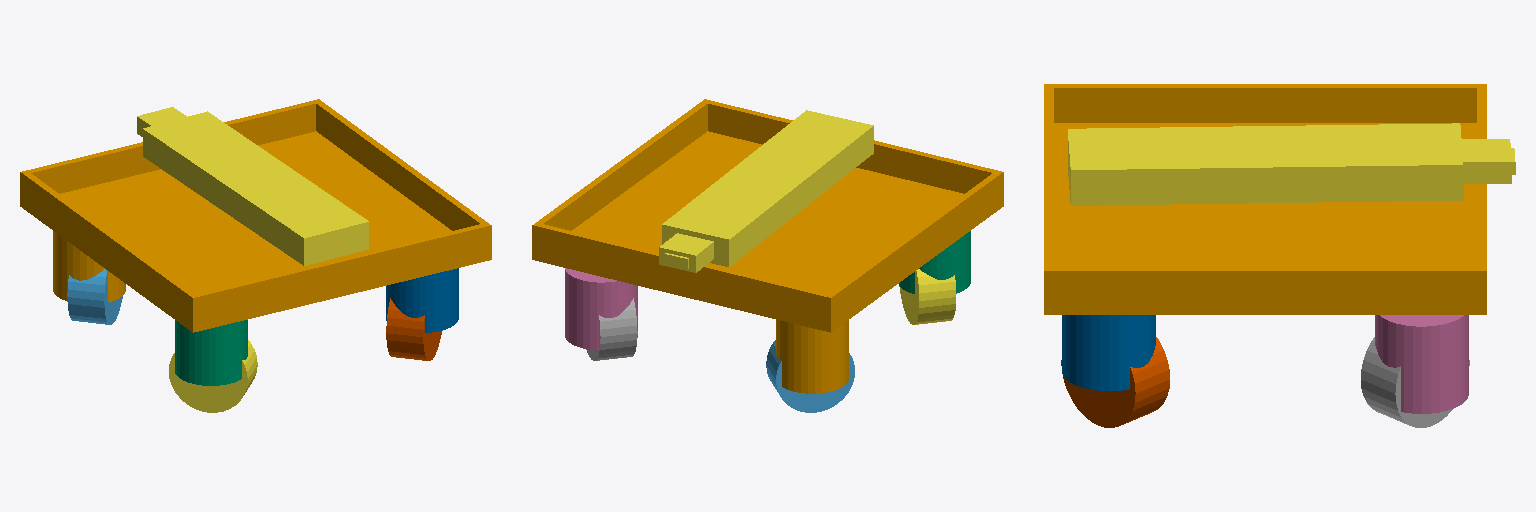
The robot description file, URDF, robot "sentry_lift_test":
<?xml version='1.0' encoding='utf-8'?>
<robot name="sentry_lift_test">
  <link name="chassis">
    <visual>
      <origin xyz="-.22 0 -.10585" rpy="0 0 0" />
      <geometry>
        <box size=".01 .45 .04" />
      </geometry>
    </visual>
    <visual>
      <origin xyz=".22 0 -.10585" rpy="0 0 0" />
      <geometry>
        <box size=".01 .45 .04" />
      </geometry>
    </visual>
    <visual>
      <origin xyz="0 -.22 -.10585" rpy="0 0 0" />
      <geometry>
        <box size=".43 .01 .04" />
      </geometry>
    </visual>
    <visual>
      <origin xyz="0 .22 -.10585" rpy="0 0 0" />
      <geometry>
        <box size=".43 .01 .04" />
      </geometry>
    </visual>
    <visual>
      <origin xyz="0 0 -.13085" rpy="0 0 0" />
      <geometry>
        <box size=".45 .45 .01" />
      </geometry>
    </visual>
  </link>
  <link name="base_footprint" />
  <link name="front_left_steer_link">
    <visual>
      <origin xyz="0 0 -0.027" rpy="0 0 0" />
      <geometry>
        <cylinder radius="0.048" length="0.098" />
      </geometry>
    </visual>
  </link>
  <link name="front_left_wheel_link">
    <visual>
      <origin xyz="-0.019453 0.00012233 -7.8814e-05" rpy="0 1.5707963 0" />
      <geometry>
        <cylinder radius="0.0535" length="0.05" />
      </geometry>
    </visual>
  </link>
  <link name="front_right_steer_link">
    <visual>
      <origin xyz="0 0 -0.025" rpy="0 0 0" />
      <geometry>
        <cylinder radius="0.048" length="0.098" />
      </geometry>
    </visual>
  </link>
  <link name="front_right_wheel_link">
    <visual>
      <origin xyz="-0.019538 0.00012734 -8.2044e-05" rpy="0 1.5707963 0" />
      <geometry>
        <cylinder radius="0.0535" length="0.05" />
      </geometry>
    </visual>
  </link>
  <link name="rear_right_steer_link">
    <visual>
      <origin xyz="0 0 -0.039" rpy="0 0 0" />
      <geometry>
        <cylinder radius="0.048" length="0.098" />
      </geometry>
    </visual>
  </link>
  <link name="rear_right_wheel_link">
    <visual>
      <origin xyz="-0.019684 0.00013642 -8.7894e-05" rpy="0 1.5707963 0" />
      <geometry>
        <cylinder radius="0.0535" length="0.05" />
      </geometry>
    </visual>
  </link>
  <link name="rear_left_steer_link">
    <visual>
      <origin xyz="0 0 -0.027" rpy="0 0 0" />
      <geometry>
        <cylinder radius="0.048" length="0.098" />
      </geometry>
    </visual>
  </link>
  <link name="rear_left_wheel_link">
    <visual>
      <origin xyz="-0.019684 -8.7894e-05 -0.00013642" rpy="0 1.5707963 0" />
      <geometry>
        <cylinder radius="0.0535" length="0.05" />
      </geometry>
    </visual>
  </link>
  <link name="lift_carriage" />
  <link name="base_link">
    <visual>
      <origin xyz="0 0 0" rpy="0 0 0" />
      <geometry>
        <box size=".40 .10 .04" />
      </geometry>
    </visual>
    <visual>
      <origin xyz=".22 0 0" rpy="0 0 0" />
      <geometry>
        <box size=".06 .055 .025" />
      </geometry>
    </visual>
    <visual>
      <origin xyz=".252 0 0" rpy="0 0 0" />
      <geometry>
        <box size=".004 .035 .014" />
      </geometry>
    </visual>
  </link>
  <link name="livox_frame">
    <visual>
      <origin xyz="0 0 0" rpy="0 0 3.141592653589793" />
      <geometry>
        <mesh filename="file:///home/dengjiaxi/simulation_seu/navigatiosim2/src/pb2025_robot_description/resource/models/mid360/meshes/mid360.dae" scale="1 1 1" />
      </geometry>
    </visual>
  </link>
  <joint name="chassis_to_base_footprint" type="fixed">
    <parent link="chassis" />
    <child link="base_footprint" />
    <origin xyz="0 0 -0.28585" rpy="0 0 0" />
  </joint>
  <joint name="front_left_steer_joint" type="continuous">
    <parent link="chassis" />
    <child link="front_left_steer_link" />
    <origin xyz="-0.159 -0.159 -0.156" rpy="0 0 2.3562" />
    <axis xyz="0 0 1" />
  </joint>
  <joint name="front_left_wheel_joint" type="continuous">
    <parent link="front_left_steer_link" />
    <child link="front_left_wheel_link" />
    <origin xyz="0 -0.029 -0.07635" rpy="0 0 -1.5708" />
    <axis xyz="-1 0 0" />
  </joint>
  <joint name="front_right_steer_joint" type="continuous">
    <parent link="chassis" />
    <child link="front_right_steer_link" />
    <origin xyz="0.159 -0.159 -0.156" rpy="0 0 -2.3562" />
    <axis xyz="0 0 1" />
  </joint>
  <joint name="front_right_wheel_joint" type="continuous">
    <parent link="front_right_steer_link" />
    <child link="front_right_wheel_link" />
    <origin xyz="0 -0.029 -0.07635" rpy="0 0 -1.5708" />
    <axis xyz="-1 0 0" />
  </joint>
  <joint name="rear_right_steer_joint" type="continuous">
    <parent link="chassis" />
    <child link="rear_right_steer_link" />
    <origin xyz="0.159 0.159 -0.16735" rpy="0 0 -0.7854" />
    <axis xyz="0 0 1" />
  </joint>
  <joint name="rear_right_wheel_joint" type="continuous">
    <parent link="rear_right_steer_link" />
    <child link="rear_right_wheel_link" />
    <origin xyz="0 -0.029 -0.065" rpy="0 0 -1.5707963" />
    <axis xyz="-1 0 0" />
  </joint>
  <joint name="rear_left_steer_joint" type="continuous">
    <parent link="chassis" />
    <child link="rear_left_steer_link" />
    <origin xyz="-0.159 0.159 -0.16735" rpy="0 0 0.7853982" />
    <axis xyz="0 0 1" />
  </joint>
  <joint name="rear_left_wheel_joint" type="continuous">
    <parent link="rear_left_steer_link" />
    <child link="rear_left_wheel_link" />
    <origin xyz="0 -0.029 -0.065" rpy="1.5707963 0 -1.5707963" />
    <axis xyz="-1 0 0" />
  </joint>
  <joint name="lift_joint" type="prismatic">
    <parent link="chassis" />
    <child link="lift_carriage" />
    <origin xyz="0 0 -0.08835" rpy="0 0 0" />
    <axis xyz="0 0 1" />
    <limit lower="0" upper=".3" effort="300" velocity=".8" />
  </joint>
  <joint name="gimbal_yaw_joint" type="continuous">
    <parent link="lift_carriage" />
    <child link="base_link" />
    <origin xyz="0 0 .0165" rpy="0 0 1.6032" />
    <axis xyz="0 0 1" />
  </joint>
  <joint name="radar_mount" type="fixed">
    <parent link="base_link" />
    <child link="livox_frame" />
    <origin xyz="0 0 0" rpy="0 0 0" />
  </joint>
</robot>

--- Render facts (derived) ---
The picture shows the robot from 3 angles, left to right: view 1: azimuth 30°, elevation 25°; view 2: azimuth 150°, elevation 25°; view 3: azimuth 270°, elevation 25°; orthographic projection.
Model sentry_lift_test with 13 links and 12 joints (9 continuous, 1 prismatic, 2 fixed), rooted at chassis, posed all joints at 0.
Visible links, largest first — view 1: chassis, base_link, front_left_steer_link, front_right_steer_link, front_left_wheel_link, front_right_wheel_link, rear_left_steer_link, rear_left_wheel_link; view 2: chassis, base_link, rear_left_steer_link, rear_right_steer_link, front_left_wheel_link, front_left_steer_link, rear_right_wheel_link, rear_left_wheel_link; view 3: chassis, base_link, rear_right_steer_link, front_right_steer_link, front_right_wheel_link, rear_right_wheel_link.
Boxes of the visible links, box(x1,y1,x2,y2) form: chassis: box(20, 99, 491, 332); base_link: box(137, 107, 368, 265); front_left_steer_link: box(175, 320, 247, 385); front_right_steer_link: box(386, 268, 458, 332); front_left_wheel_link: box(169, 340, 257, 412); front_right_wheel_link: box(386, 298, 441, 360); rear_left_steer_link: box(53, 231, 125, 301); rear_left_wheel_link: box(67, 269, 122, 324); chassis: box(532, 99, 1003, 332); base_link: box(659, 110, 873, 272); rear_left_steer_link: box(776, 320, 848, 393); rear_right_steer_link: box(565, 268, 637, 350); front_left_wheel_link: box(899, 269, 955, 324); front_left_steer_link: box(899, 231, 970, 293); rear_right_wheel_link: box(586, 298, 637, 360); rear_left_wheel_link: box(766, 340, 854, 412); chassis: box(1044, 84, 1486, 314); base_link: box(1068, 123, 1515, 205); rear_right_steer_link: box(1375, 315, 1468, 413); front_right_steer_link: box(1062, 315, 1155, 390); front_right_wheel_link: box(1061, 337, 1169, 427); rear_right_wheel_link: box(1361, 337, 1469, 427).
Bounding box of the posed robot: 0.45 × 0.4794 × 0.2341 m (x, y, z).
Geometry: only primitive shapes (box / cylinder / sphere) drawn; not drawn: 1 mesh visual (reference in a form the renderer does not follow).
